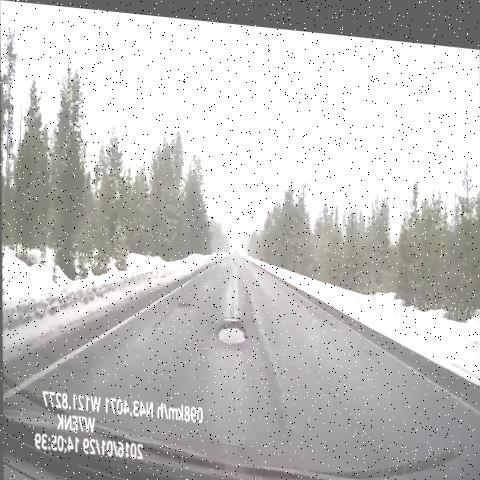pothole: (207, 308, 255, 355), (172, 286, 194, 313)
